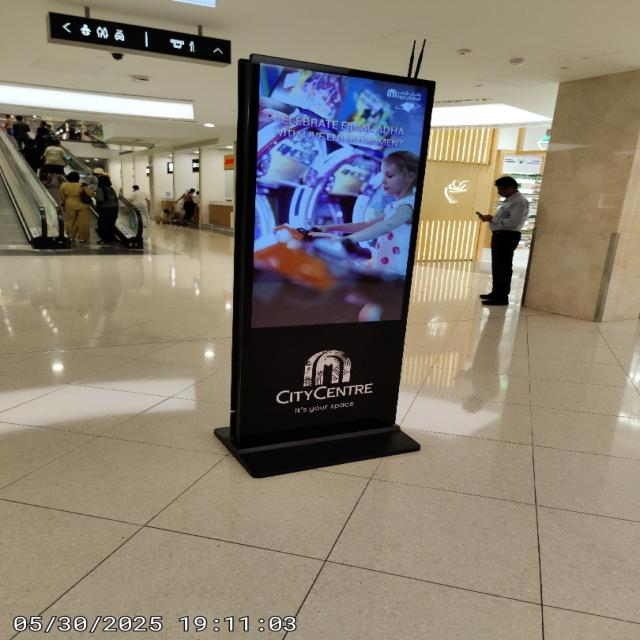mupi: (241, 57, 436, 442)
